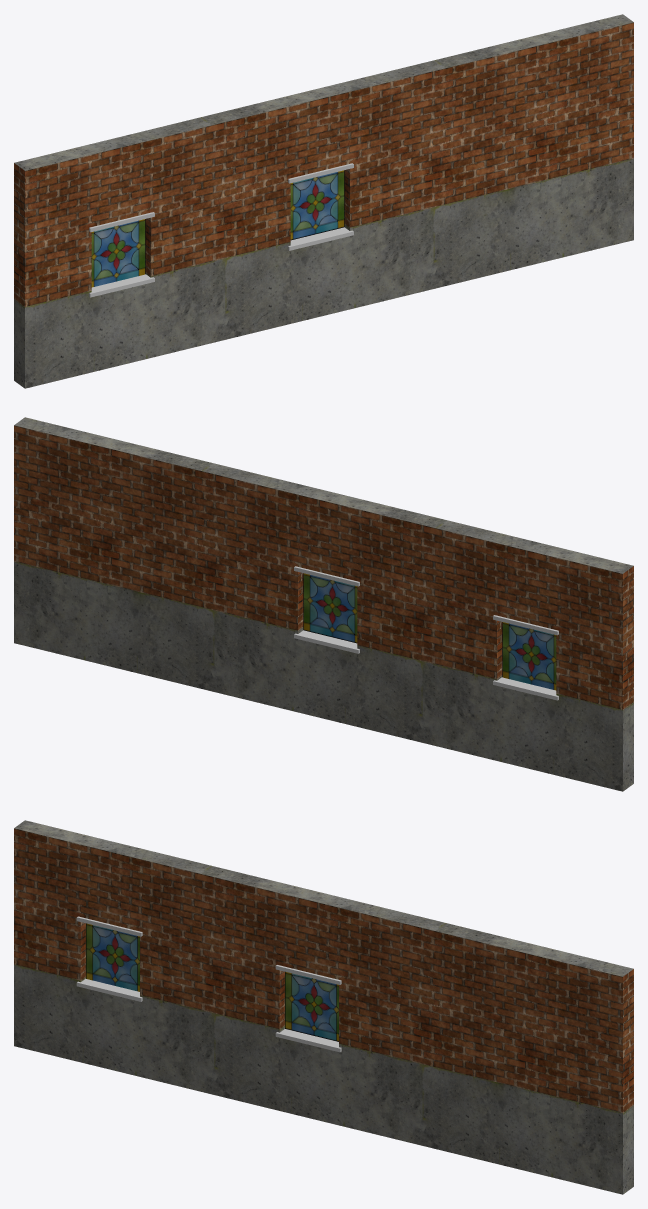
File: brickwallchurch2.fbx
The picture shows the model from 3 angles, top to bottom: view 1: azimuth 30°, elevation 25°; view 2: azimuth 150°, elevation 25°; view 3: azimuth 330°, elevation 25°; orthographic projection.
Visible parts, largest first — view 1: WallFront1; view 2: WallFront1; view 3: WallFront1.
Boxes of the visible parts, x1,y1,x2,y2 form: WallFront1: (14,14,633,388); WallFront1: (14,417,633,791); WallFront1: (14,820,633,1194).
Bounding box in the file's own units: 8.31 × 2.84 × 0.3222.
